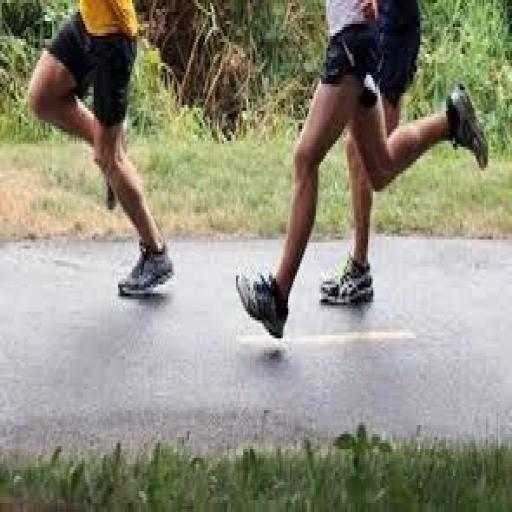running: (234, 0, 491, 344), (24, 0, 176, 302)
